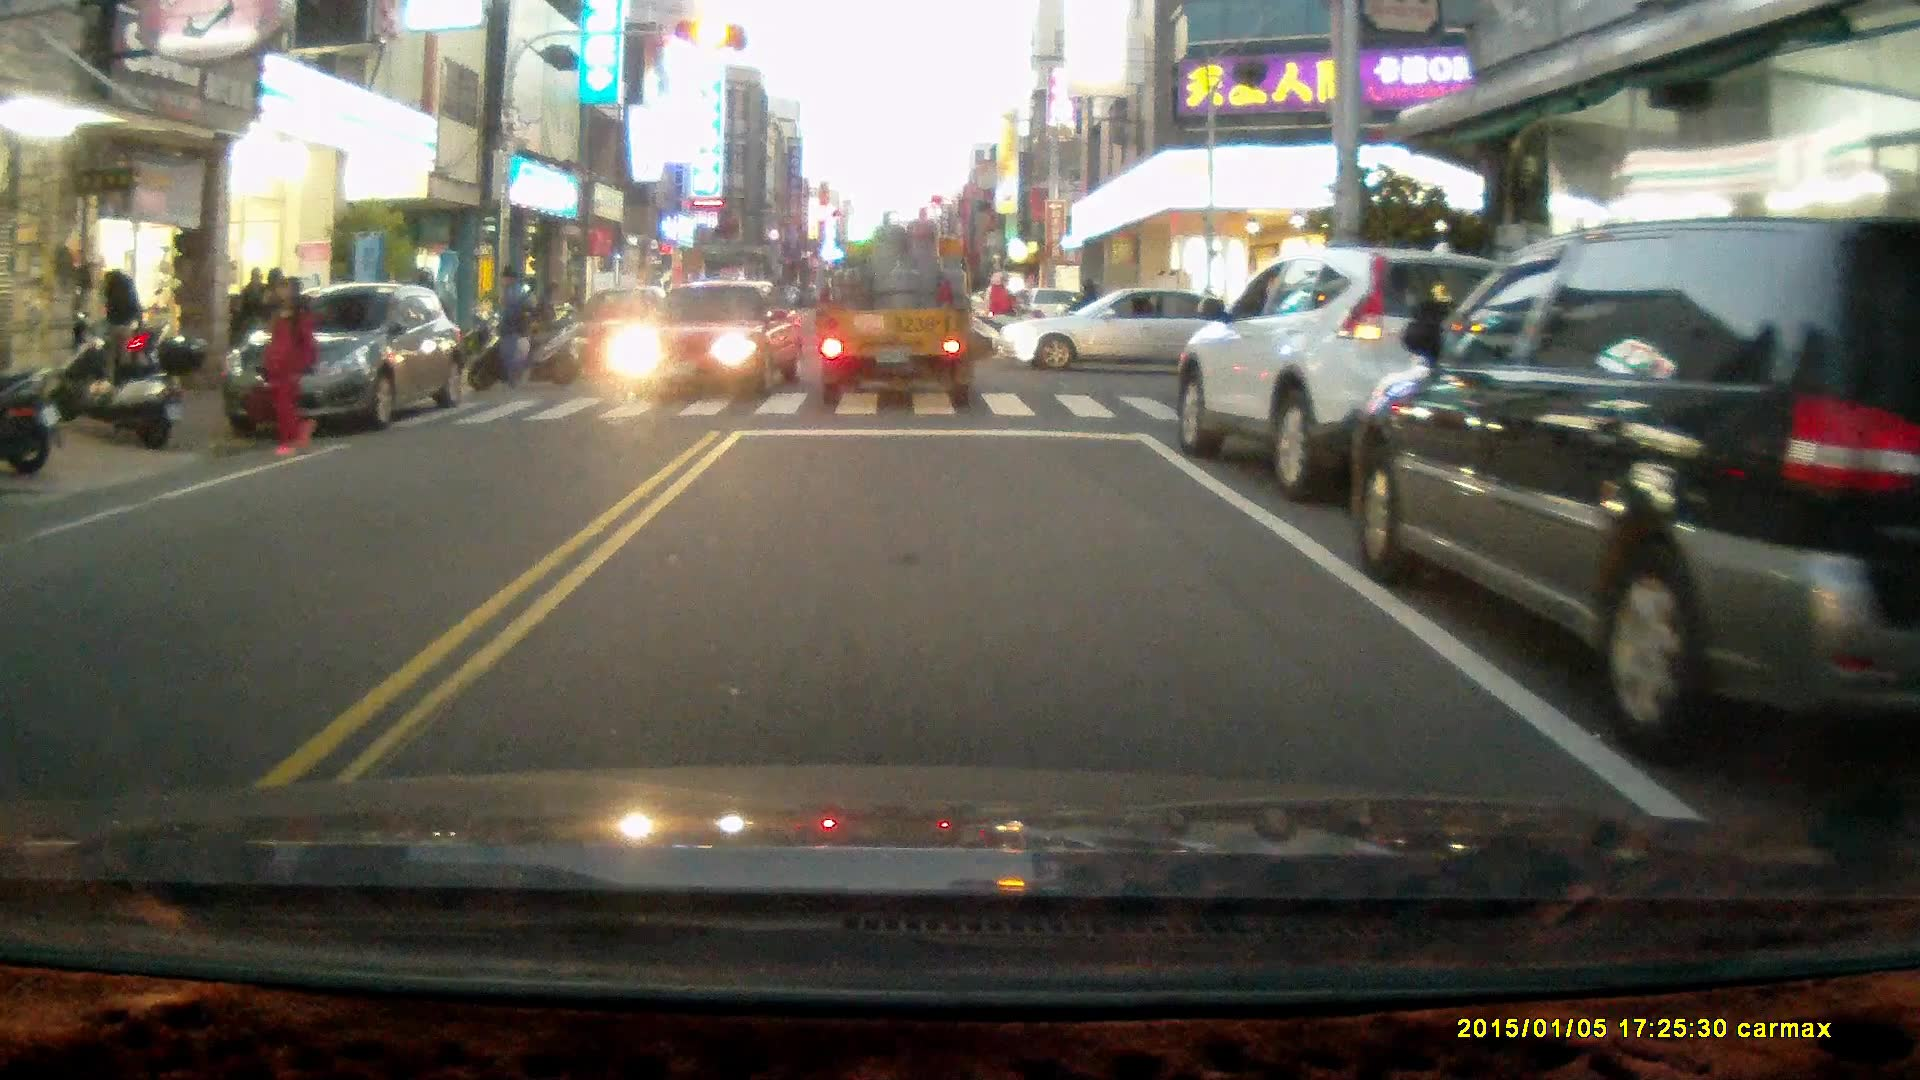pedestrian: (255, 271, 321, 458), (483, 267, 539, 395), (99, 264, 143, 377)
rider: (959, 266, 1045, 356)
vehicle: (1359, 216, 1920, 779), (1175, 245, 1558, 499), (222, 286, 455, 444), (816, 205, 991, 412), (607, 280, 806, 404), (1007, 287, 1264, 374)
